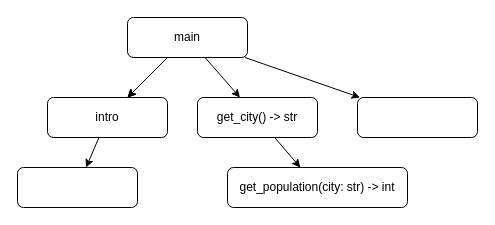
The diagram is 495 pixels wide and 225 high, and some of its shapes have lost their labels. Each missing label, with the centre of its shape:
"bye()" belongs at point 417,117.
"get_name" belongs at point 77,187.
